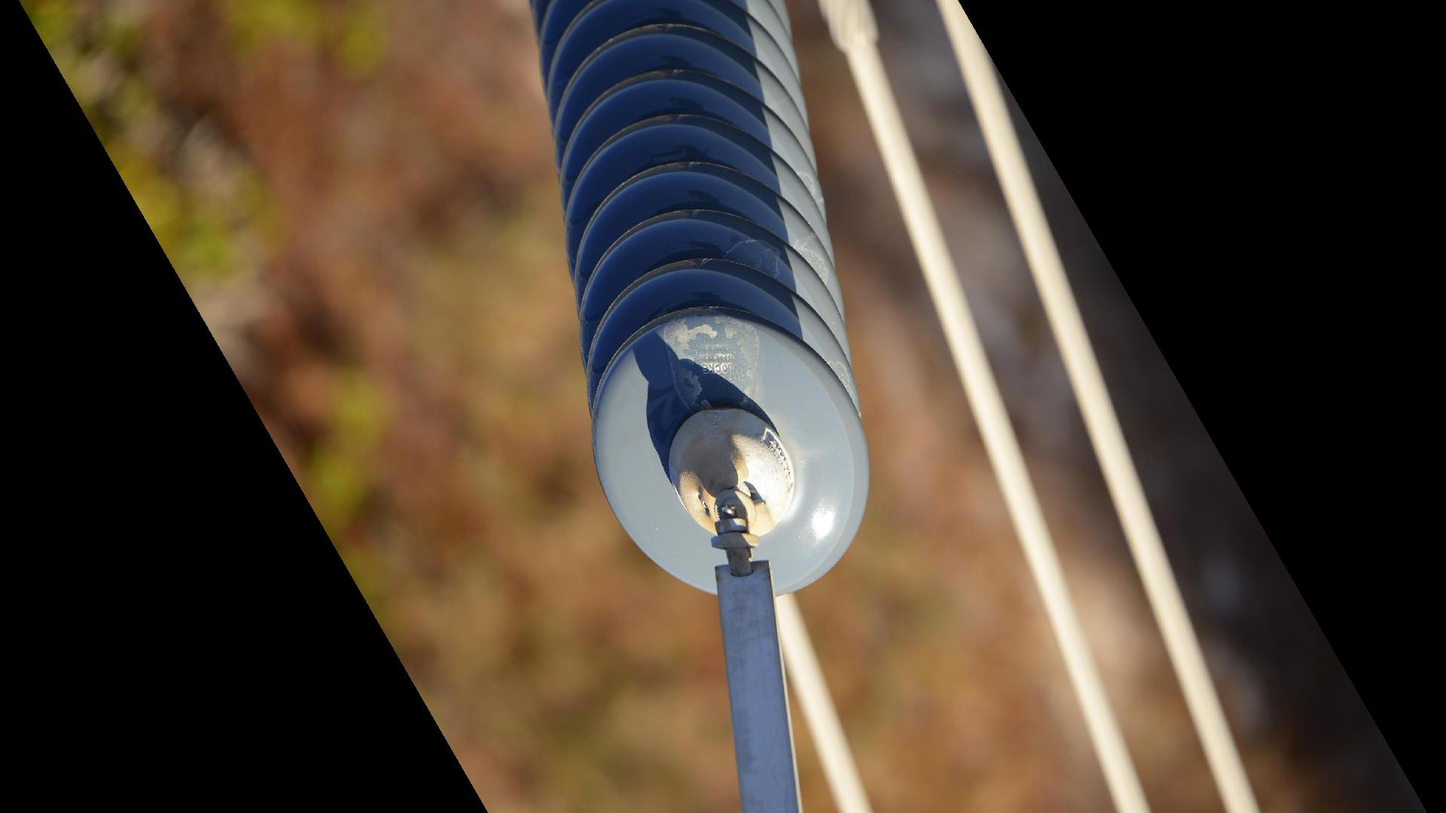insulator: (520, 1, 879, 604)
insulator_flashover: (657, 306, 764, 418)
